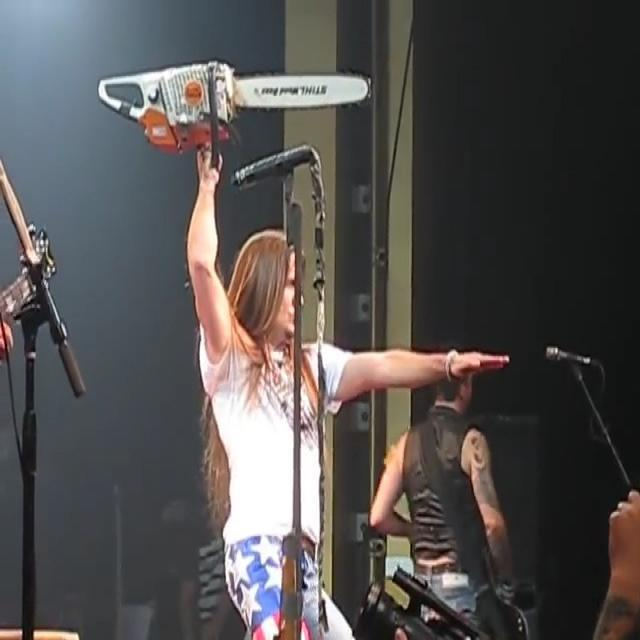Chainsaw: (95, 45, 396, 179)
